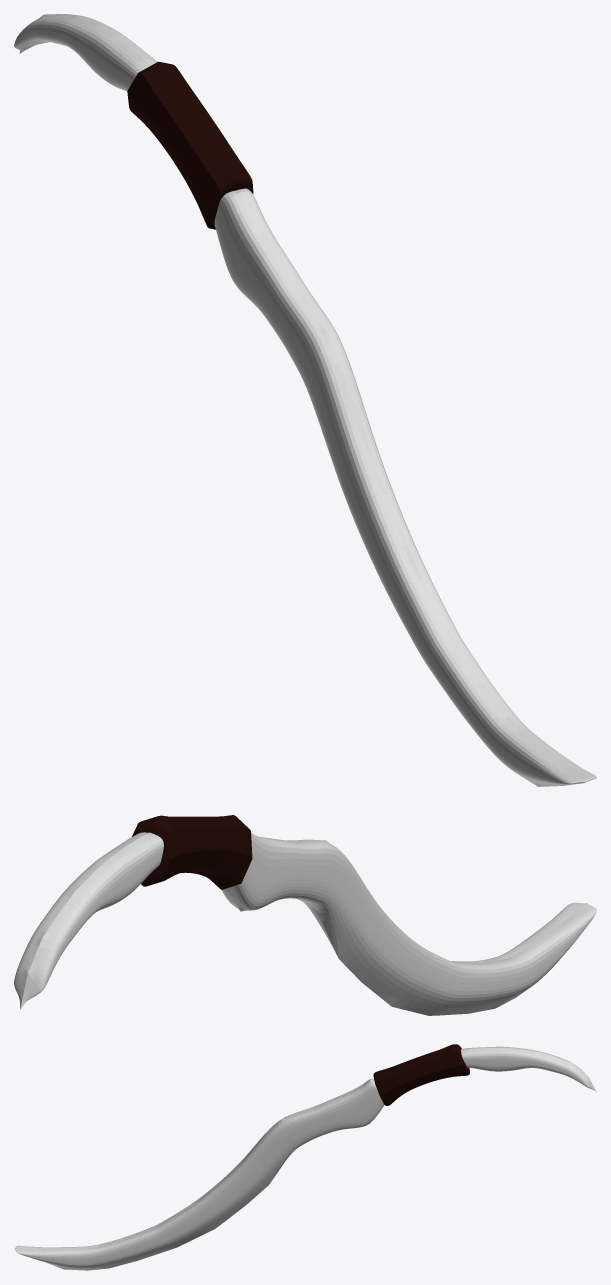
The model's file is noyan_sword.fbx.
3 renders of one model, top to bottom at view 1: azimuth 30°, elevation 25°; view 2: azimuth 150°, elevation 25°; view 3: azimuth 270°, elevation 25°, orthographic. The views are drawn at different scales.
Visible parts, largest first — view 1: Cube.001; view 2: Cube.001; view 3: Cube.001.
Boxes of the visible parts, <box> form: Cube.001: <box>14,14,596,786</box>; Cube.001: <box>14,815,596,1015</box>; Cube.001: <box>14,1044,596,1270</box>.
Size of the model in its own units: 91.03 by 822 by 1910.
